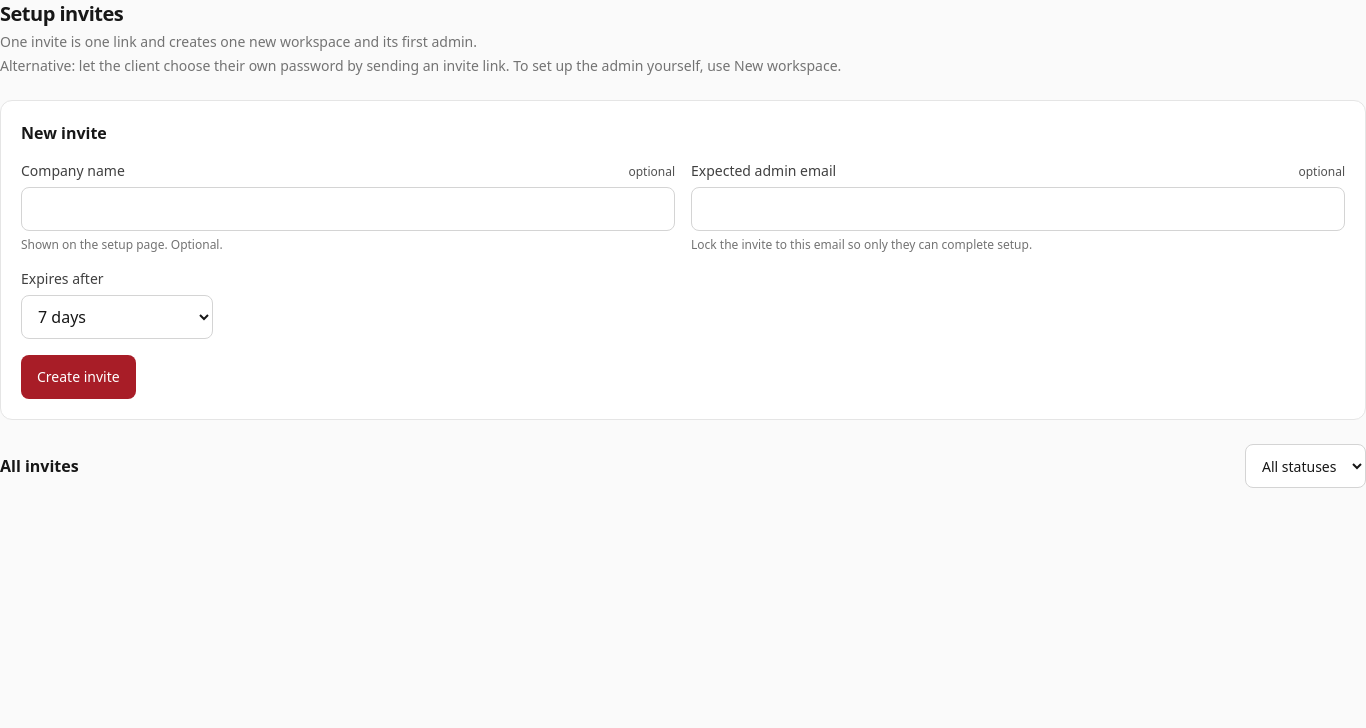
Test: reauthentication › asks for the password on reauth-required, then retries the same request once and shows the card
Type "Acme Quarry" into the field labelled "Company name optional" at (348, 209), box 21,187 -> 675,231
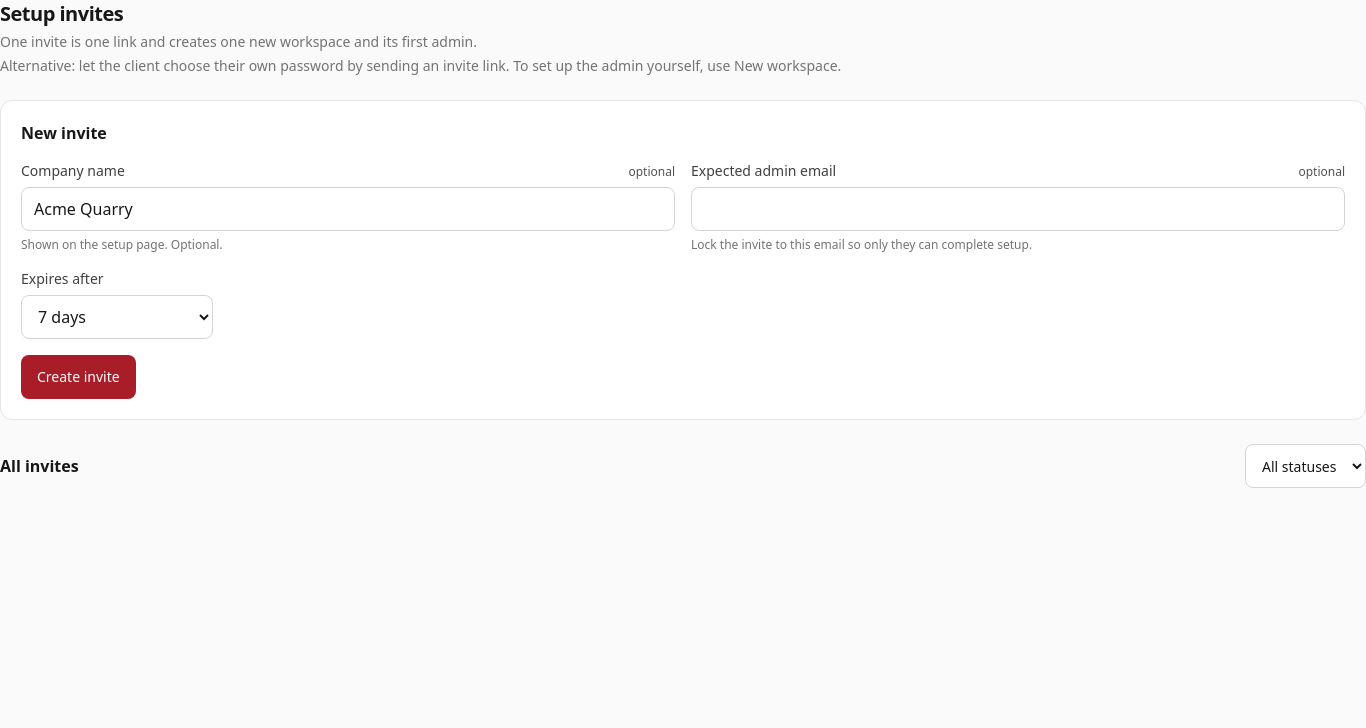
Click the button "Create invite" at (78, 377), box 21,355 -> 136,399
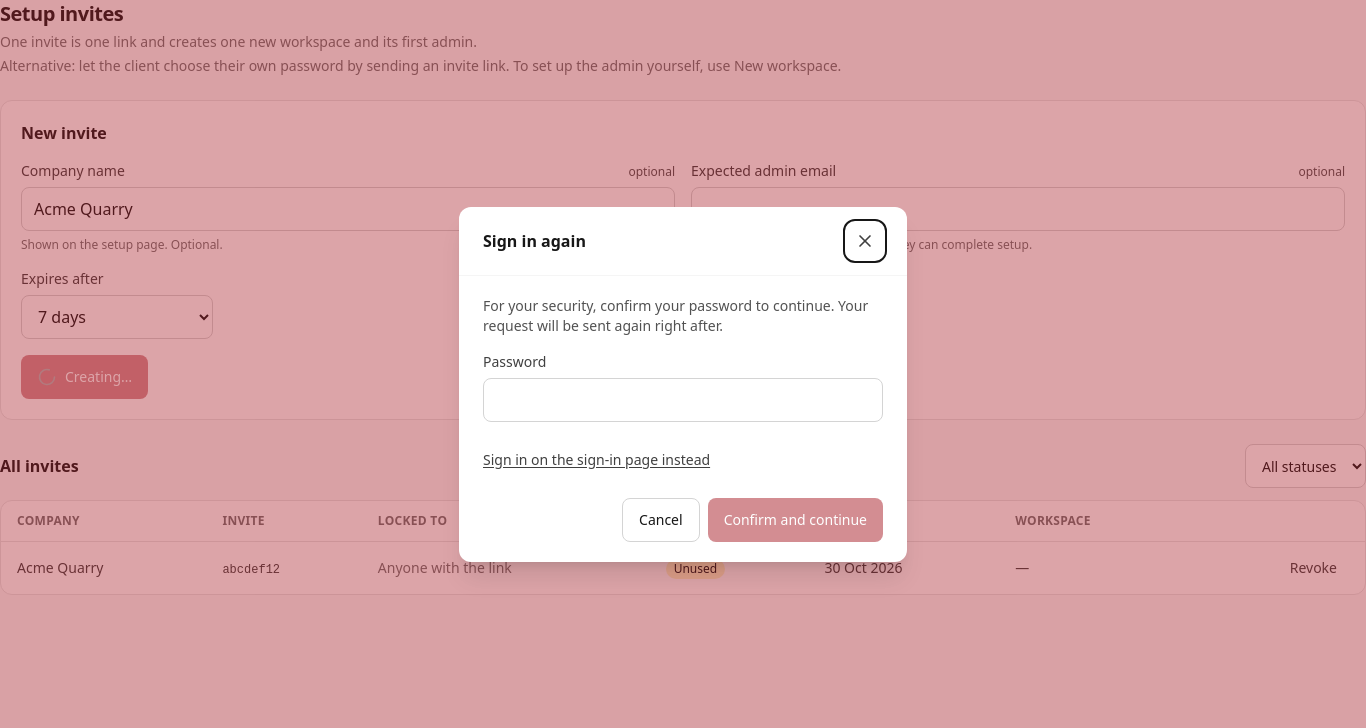
Now the heading "Sign in again" is shown, box 483,228 -> 586,252
Type "my-password-123" into the password field labelled "Password" at (683, 400), box 483,378 -> 883,422
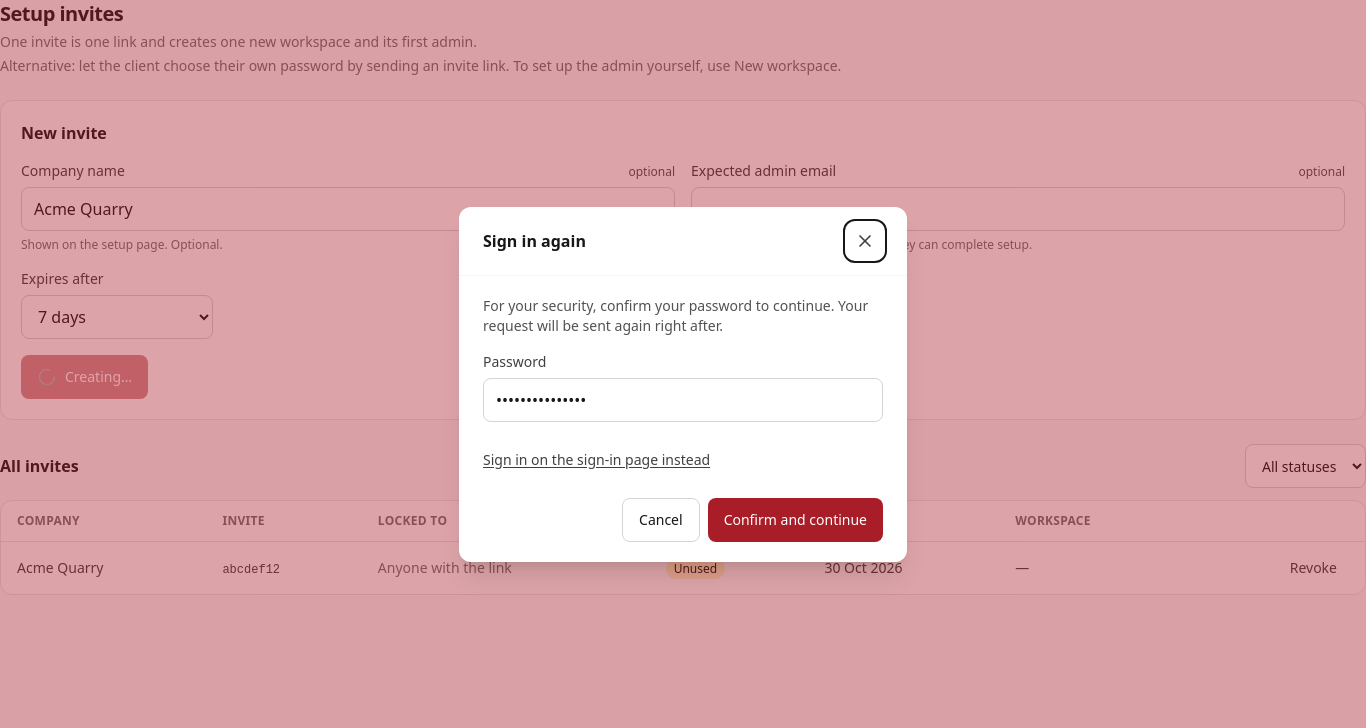
Click the button "Confirm and continue" at (795, 520), box 708,498 -> 883,542
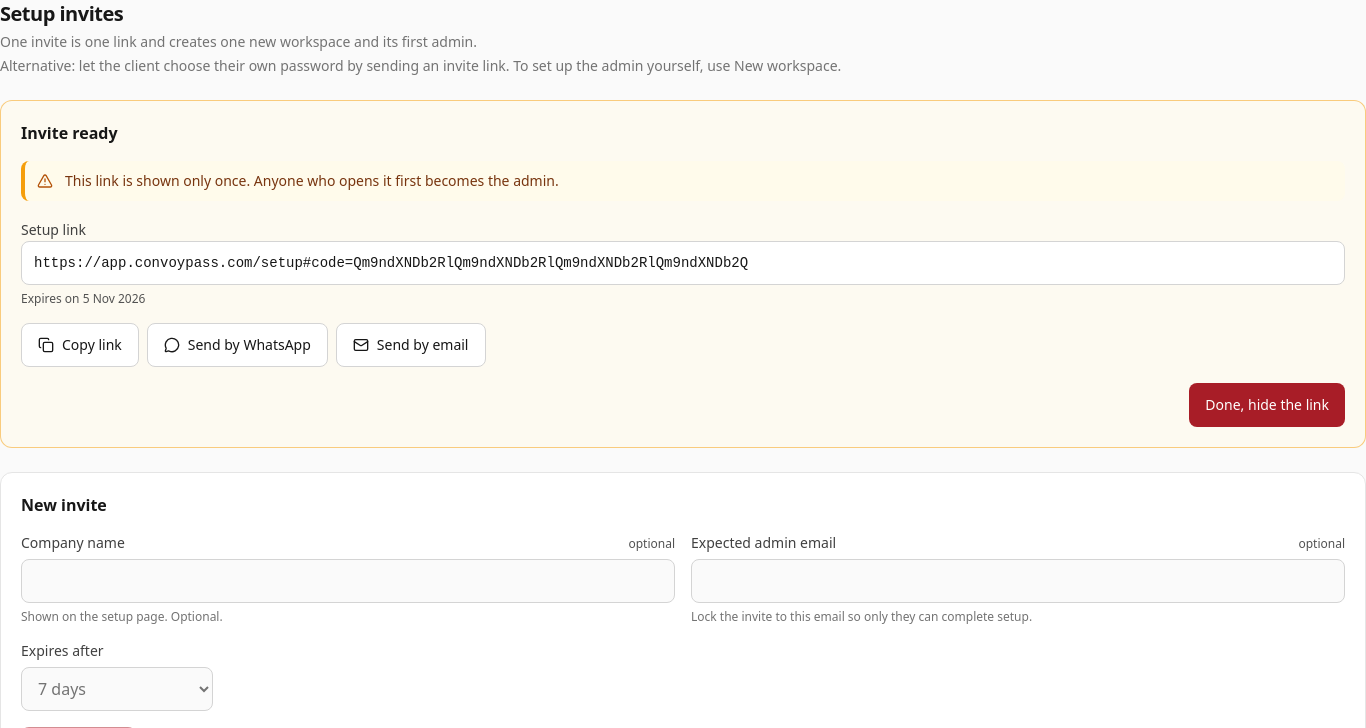
Now the field labelled "Setup link" is shown, box 21,241 -> 1345,285
